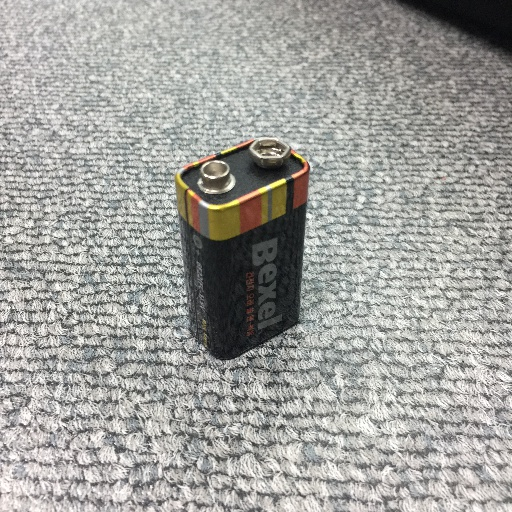Battery_3: (164, 120, 329, 365)
